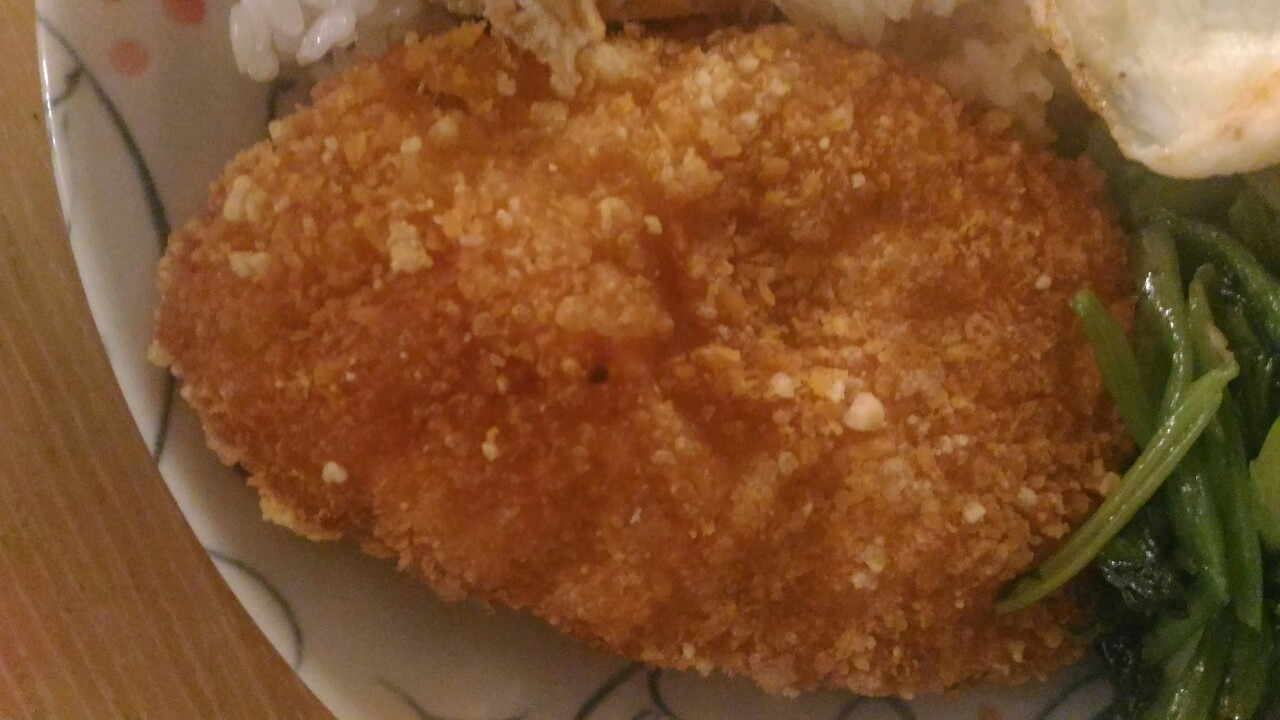fried_chicken: (156, 13, 1120, 690)
water_spinach: (1120, 173, 1280, 720)
